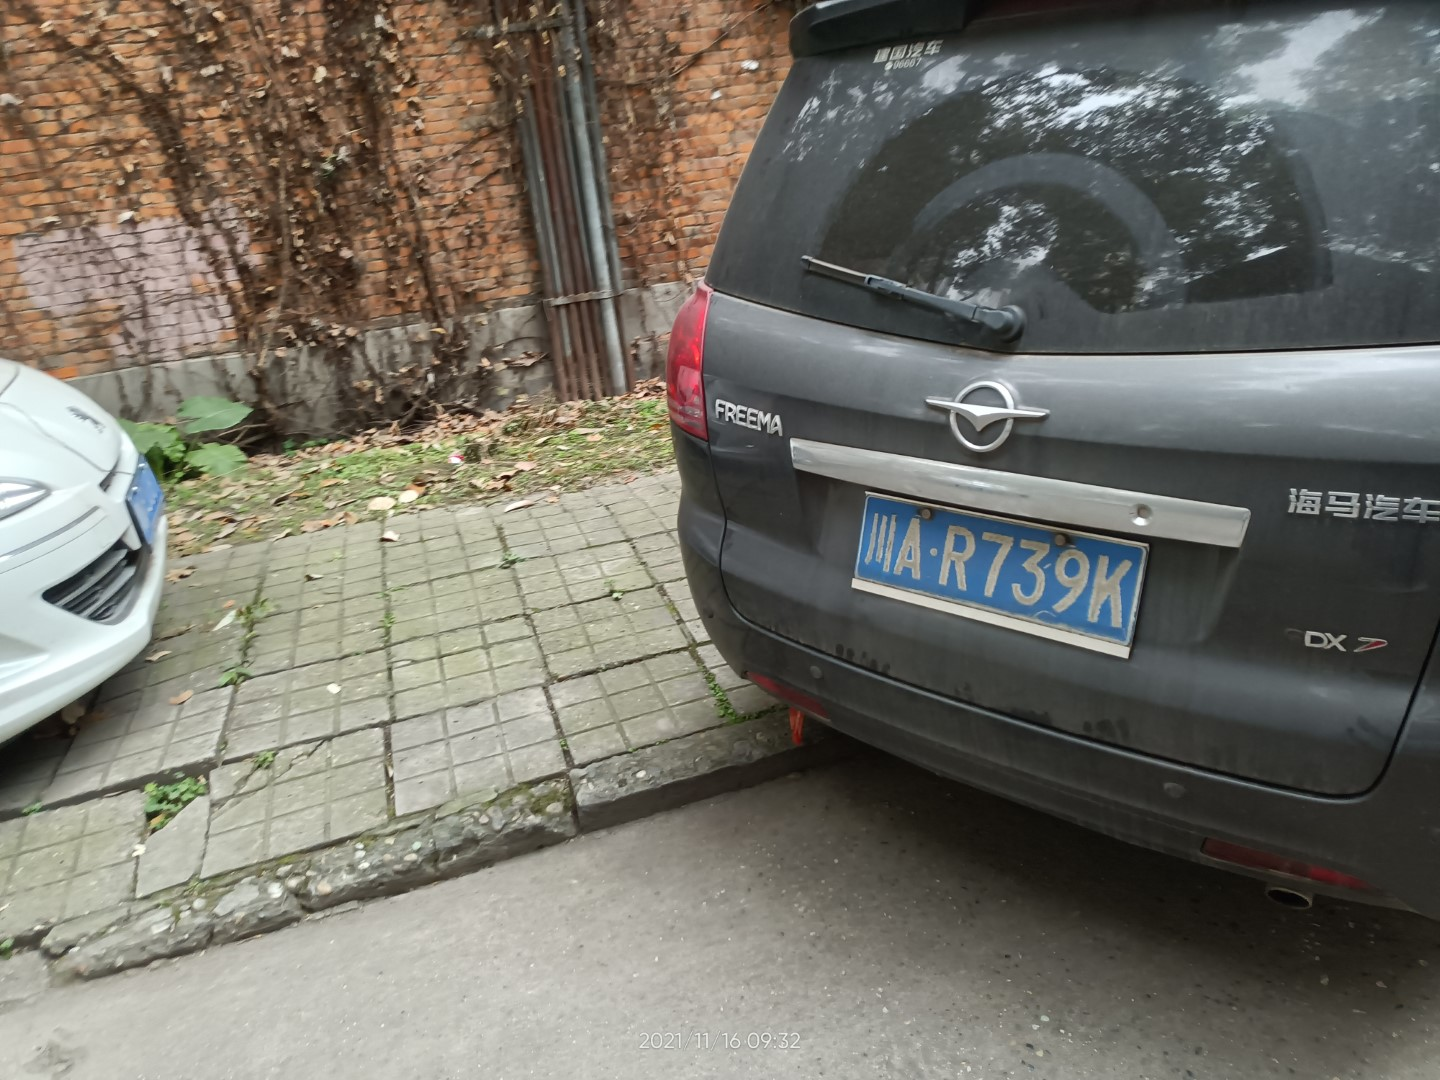plate: (852, 484, 1144, 644)
